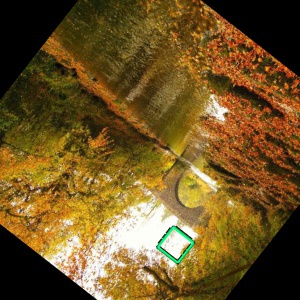square: (155, 224, 196, 265)
